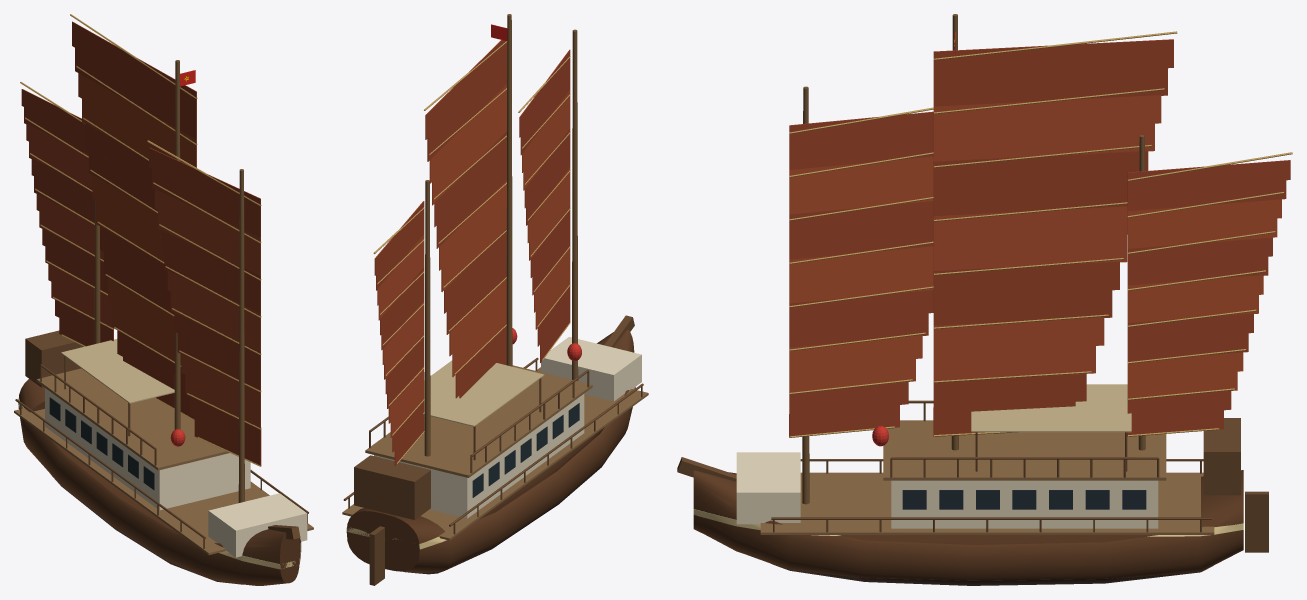
File: junk.glb
3 renders of one model, left to right at view 1: azimuth 30°, elevation 25°; view 2: azimuth 150°, elevation 25°; view 3: azimuth 270°, elevation 25°, orthographic. The views are drawn at different scales.
Parts seen in each view (by area): view 1: hull_0, deck_5, wall_4, deck_3, wall_69, awning_64, sail2_110, sail2_109, sail_108, sail2_87, sail2_86, mast_73 (+43 smaller); view 2: hull_0, deck_5, wall_4, awning_64, wood_71, wall_69, deck_3, mast_96, sail2_110, mast_73, sail2_109, sail_108 (+42 smaller); view 3: hull_0, deck_5, deck_3, wall_4, sail2_110, sail_108, sail2_109, sail_107, sail2_106, sail_104, sail2_102, sail_103 (+42 smaller).
Part boxes in pixels (<box>): hull_0: <box>18,379,300,585</box>; deck_5: <box>36,368,229,470</box>; wall_4: <box>45,388,250,510</box>; deck_3: <box>14,408,313,554</box>; wall_69: <box>208,493,307,557</box>; awning_64: <box>61,339,174,403</box>; sail2_110: <box>72,21,196,115</box>; sail2_109: <box>75,47,196,138</box>; sail_108: <box>78,73,196,162</box>; sail2_87: <box>149,147,260,217</box>; sail2_86: <box>152,168,260,237</box>; mast_73: <box>238,169,244,502</box>; hull_0: <box>346,329,635,572</box>; deck_5: <box>365,365,592,477</box>; wall_4: <box>374,394,584,518</box>; awning_64: <box>423,360,544,426</box>; wood_71: <box>354,455,430,519</box>; wall_69: <box>541,337,641,401</box>; deck_3: <box>342,367,648,540</box>; mast_96: <box>506,14,512,366</box>; sail2_110: <box>425,40,507,139</box>; mast_73: <box>572,29,578,380</box>; sail2_109: <box>427,59,506,161</box>; sail_108: <box>429,84,506,183</box>; hull_0: <box>693,470,1243,580</box>; deck_5: <box>883,420,1166,480</box>; deck_3: <box>760,472,1214,534</box>; wall_4: <box>891,480,1158,528</box>; sail2_110: <box>933,39,1173,79</box>; sail_108: <box>933,95,1161,134</box>; sail2_109: <box>933,68,1167,106</box>; sail_107: <box>933,123,1154,162</box>; sail2_106: <box>933,150,1148,189</box>; sail_104: <box>933,206,1127,244</box>; sail2_102: <box>933,261,1119,299</box>; sail_103: <box>933,234,1127,270</box>.
Size of the model in its own units: 6 by 22.86 by 23.06.
